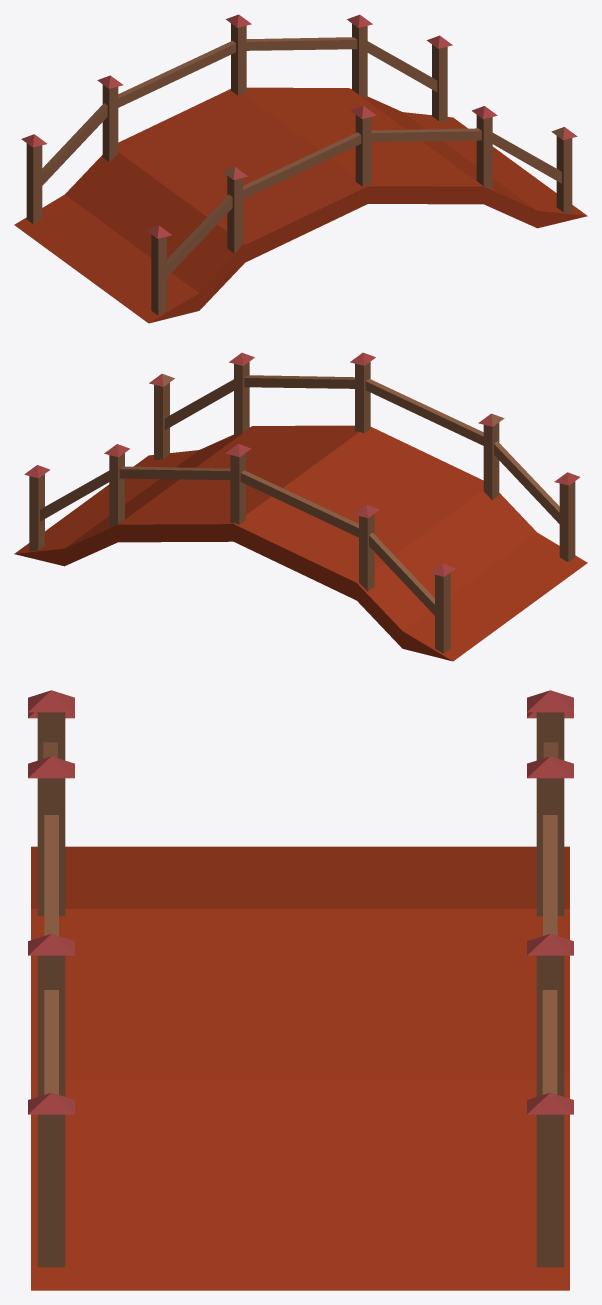
The model's file is Bridge 2.fbx.
The picture shows the model from 3 angles, top to bottom: view 1: azimuth 30°, elevation 25°; view 2: azimuth 150°, elevation 25°; view 3: azimuth 270°, elevation 25°; orthographic projection. The views are drawn at different scales.
Parts seen in each view (by area): view 1: Circle; view 2: Circle; view 3: Circle.
Part boxes in pixels (left/top/right/bottom): Circle: left=14, top=14, right=587, bottom=323; Circle: left=14, top=352, right=587, bottom=661; Circle: left=28, top=690, right=573, bottom=1290.
Size of the model in its own units: 260 by 90.85 by 140.
